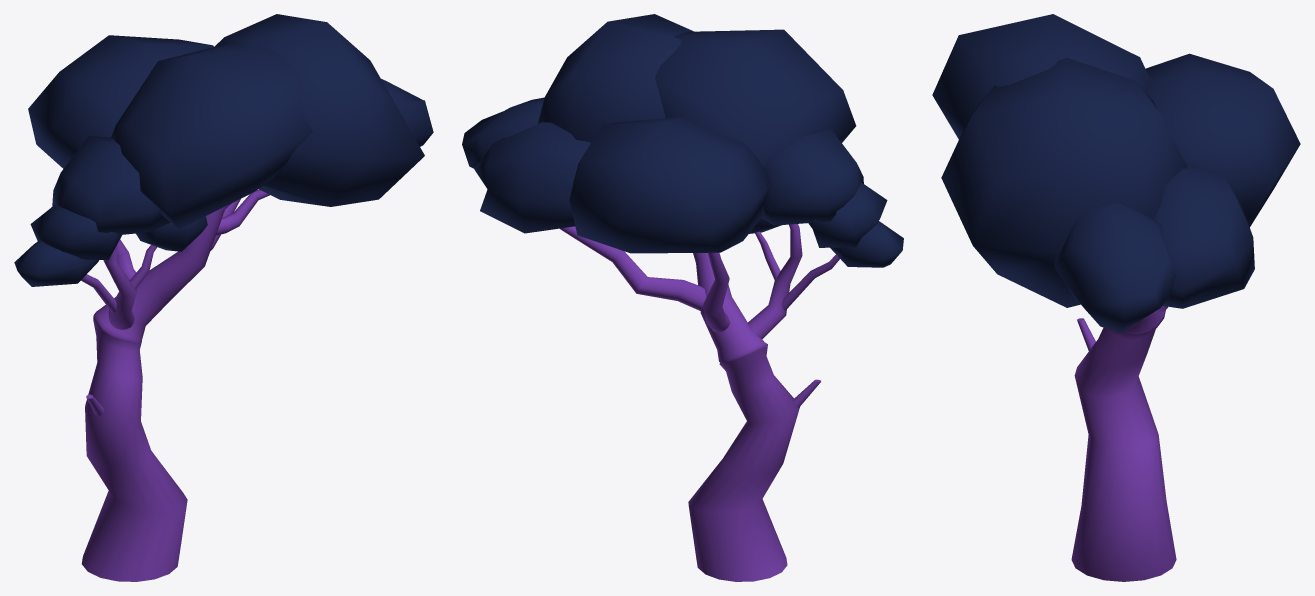
File: SM_tree_02.fbx
3 views of the same model, side by side, from view 1: azimuth 30°, elevation 25°; view 2: azimuth 150°, elevation 25°; view 3: azimuth 270°, elevation 25° (orthographic). The views are drawn at different scales.
Visible parts, largest first — view 1: tree_2_blockout; view 2: tree_2_blockout; view 3: tree_2_blockout.
Part boxes in pixels (box(x1,y1,x2,y2)): tree_2_blockout: box(14, 14, 433, 581); tree_2_blockout: box(462, 14, 903, 581); tree_2_blockout: box(932, 14, 1300, 581).
Bounding box in the file's own units: 149 × 170 × 101.
